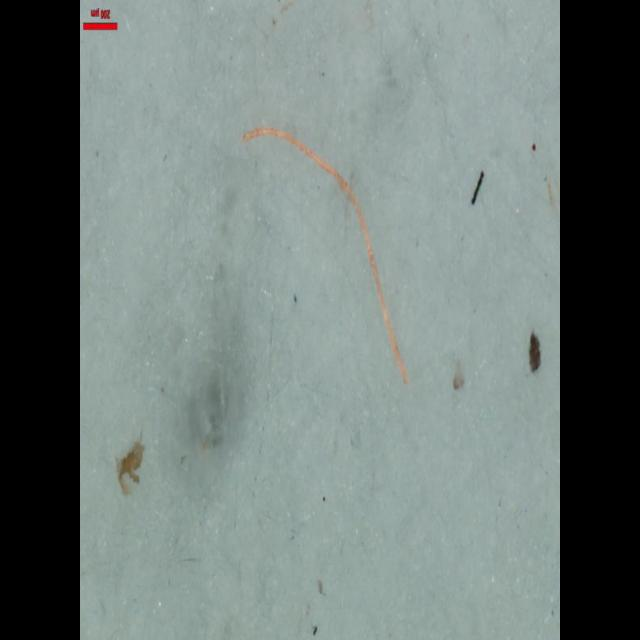Fibre: (238, 115, 410, 395)
